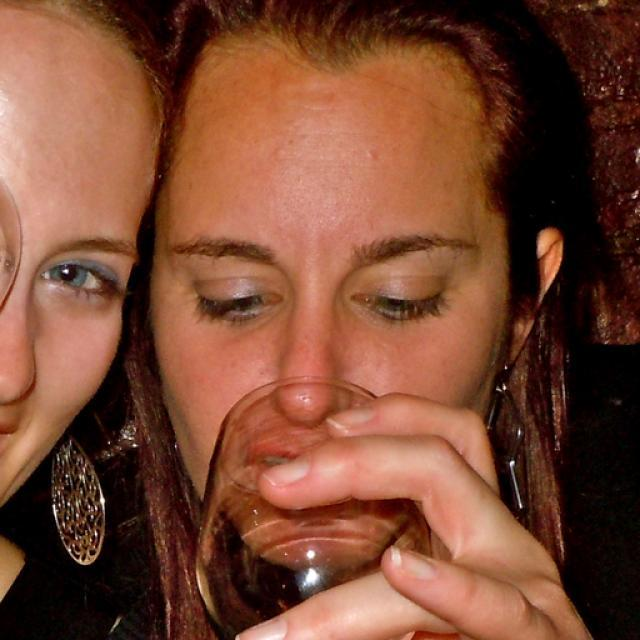happy: (154, 19, 512, 581), (0, 29, 151, 534)
